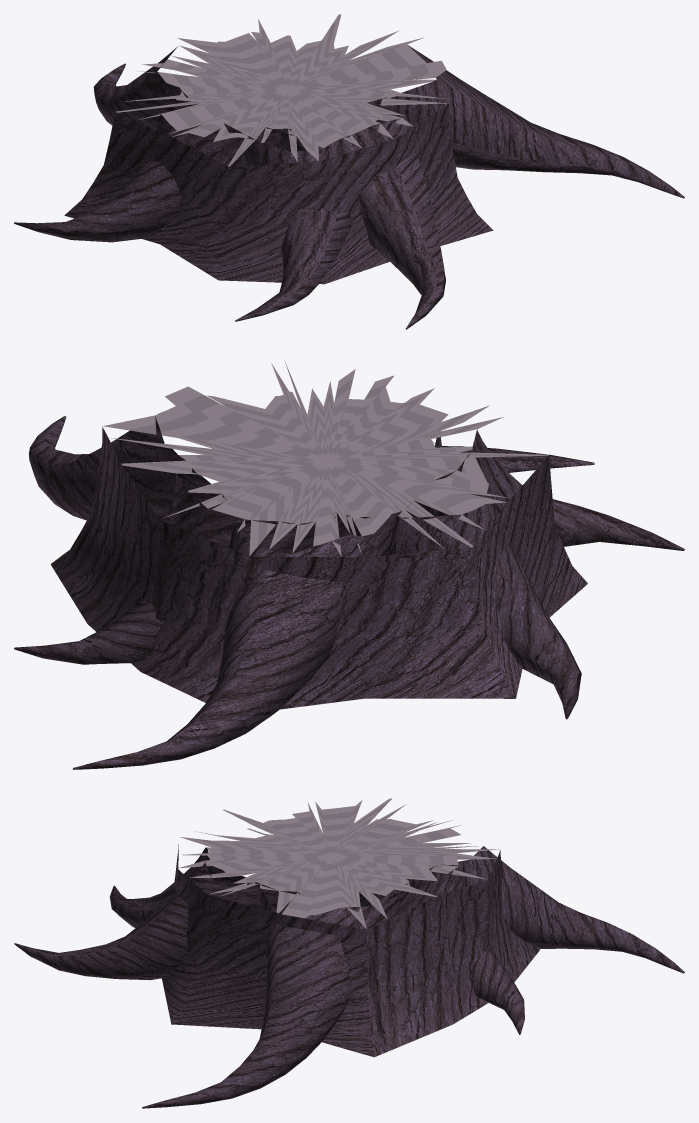
File: corealm_stump_wilderness_magic.glb
The picture shows the model from 3 angles, top to bottom: view 1: azimuth 30°, elevation 25°; view 2: azimuth 150°, elevation 25°; view 3: azimuth 270°, elevation 25°; orthographic projection. The views are drawn at different scales.
Visible parts, largest first — view 1: corealm_stump_wilderness_magic; view 2: corealm_stump_wilderness_magic; view 3: corealm_stump_wilderness_magic.
Part boxes in pixels (x1=…): corealm_stump_wilderness_magic: x1=14, y1=14, x2=684, y2=329; corealm_stump_wilderness_magic: x1=14, y1=360, x2=684, y2=769; corealm_stump_wilderness_magic: x1=14, y1=798, x2=684, y2=1108.
Bounding box in the file's own units: 2.87 × 0.6301 × 3.22.
2 materials, 1 textured.
